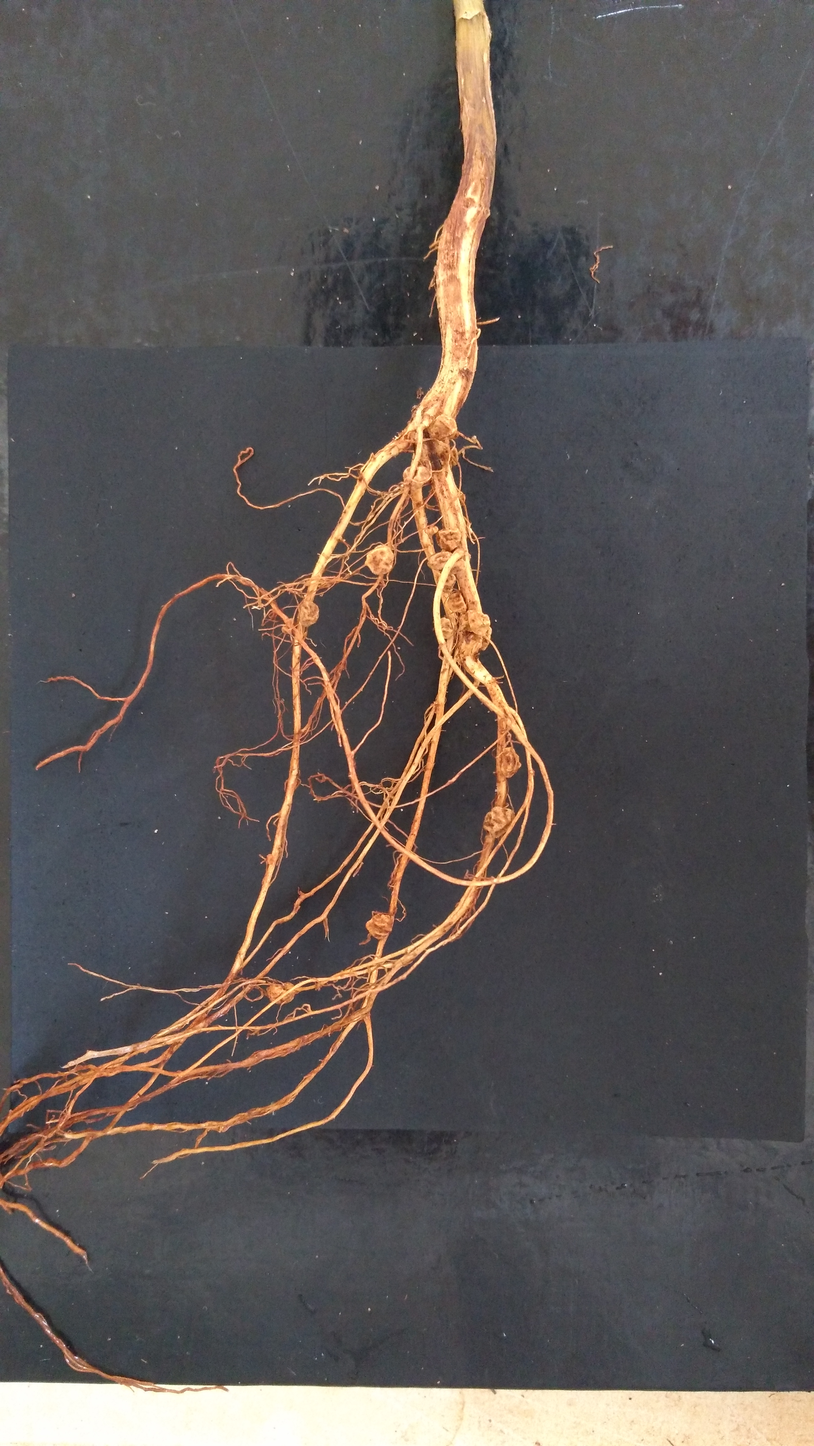nodule: (482, 806, 516, 837), (427, 551, 467, 574), (365, 544, 394, 575), (365, 913, 394, 941), (458, 609, 490, 634), (266, 981, 296, 1004), (403, 465, 433, 488), (501, 747, 522, 778), (436, 528, 462, 552), (435, 413, 458, 439), (460, 632, 482, 656), (300, 600, 319, 627), (431, 440, 450, 465), (448, 589, 467, 613), (438, 572, 456, 594), (438, 616, 454, 640), (478, 626, 492, 652), (284, 777, 302, 793), (281, 617, 294, 636), (449, 445, 459, 469), (424, 525, 439, 540), (406, 429, 419, 441), (458, 491, 466, 506), (265, 853, 274, 864)
